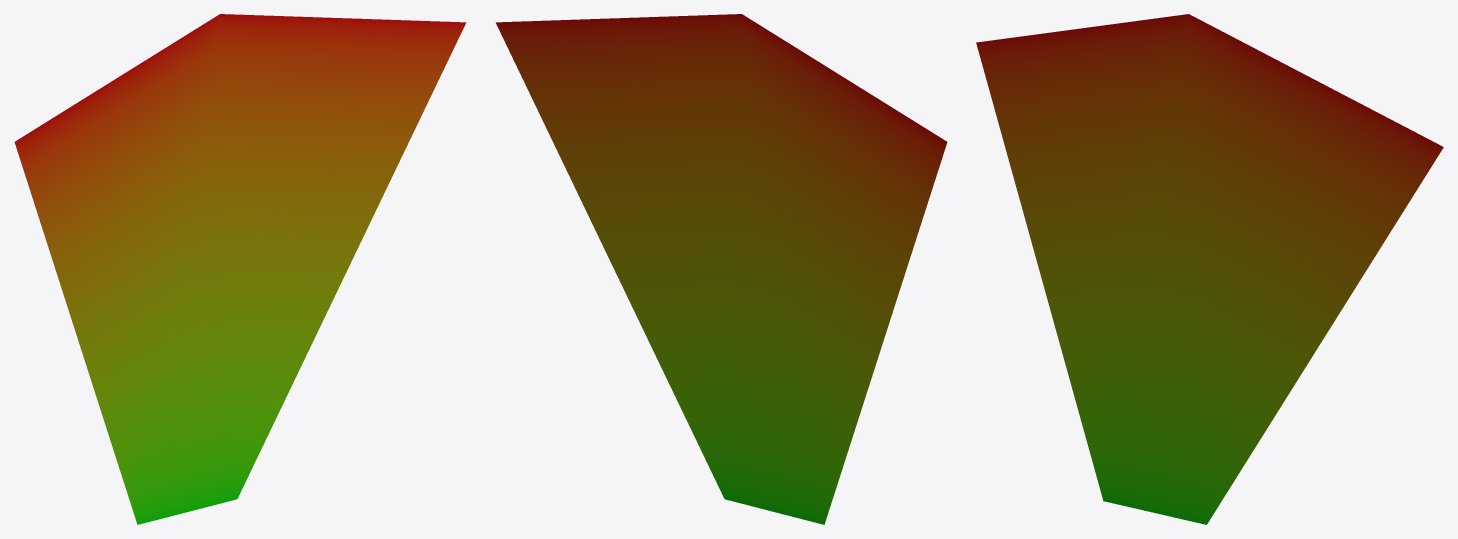
The model's file is Dead Finish_LOD3_Var4_ucokaamia.fbx.
3 views of the same model, side by side, from view 1: azimuth 30°, elevation 25°; view 2: azimuth 150°, elevation 25°; view 3: azimuth 330°, elevation 25° (orthographic). The views are drawn at different scales.
Visible parts, largest first — view 1: _2k3d_Var4_LOD3; view 2: _2k3d_Var4_LOD3; view 3: _2k3d_Var4_LOD3.
Boxes of the visible parts, x1,y1,x2,y2 form: _2k3d_Var4_LOD3: (14, 14, 466, 524); _2k3d_Var4_LOD3: (495, 14, 947, 524); _2k3d_Var4_LOD3: (976, 14, 1443, 524).
Size of the model in its own units: 33.41 by 34.66 by 8.43e-06.
